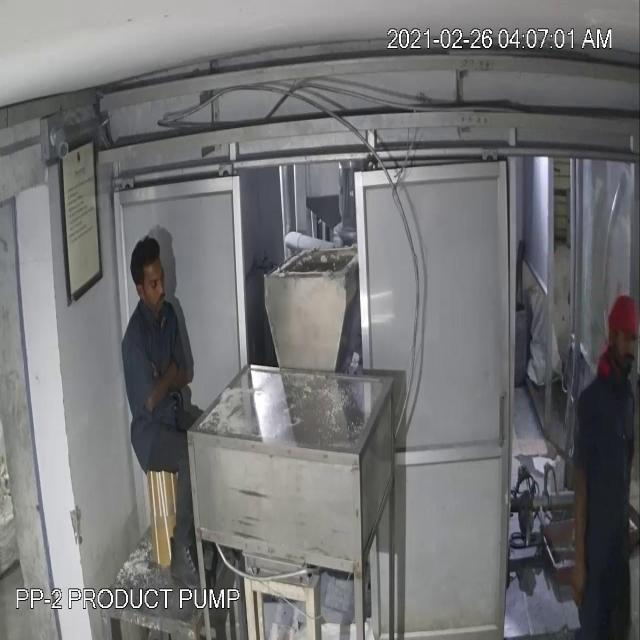no-helmet: (127, 233, 178, 297)
